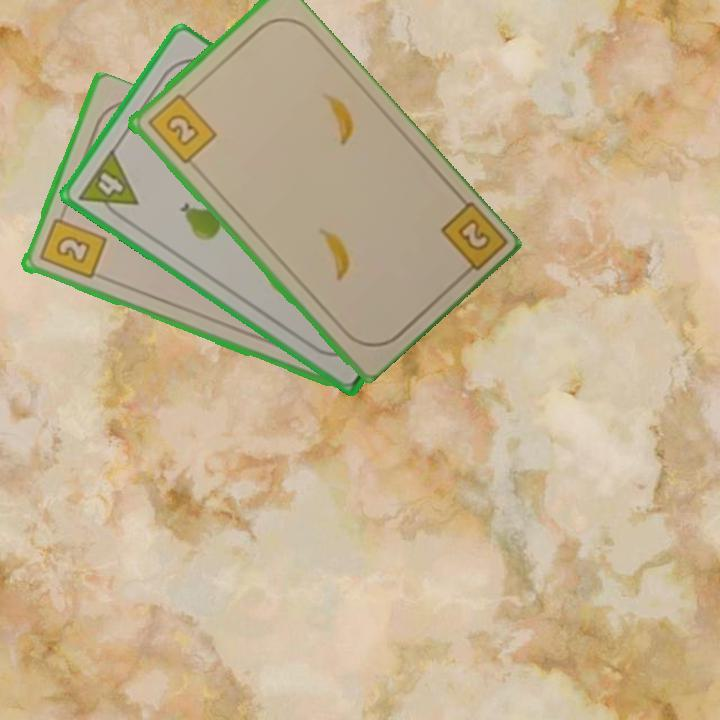2b: (143, 86, 219, 167), (436, 197, 507, 283), (35, 207, 108, 283)
4p: (75, 146, 141, 225)
